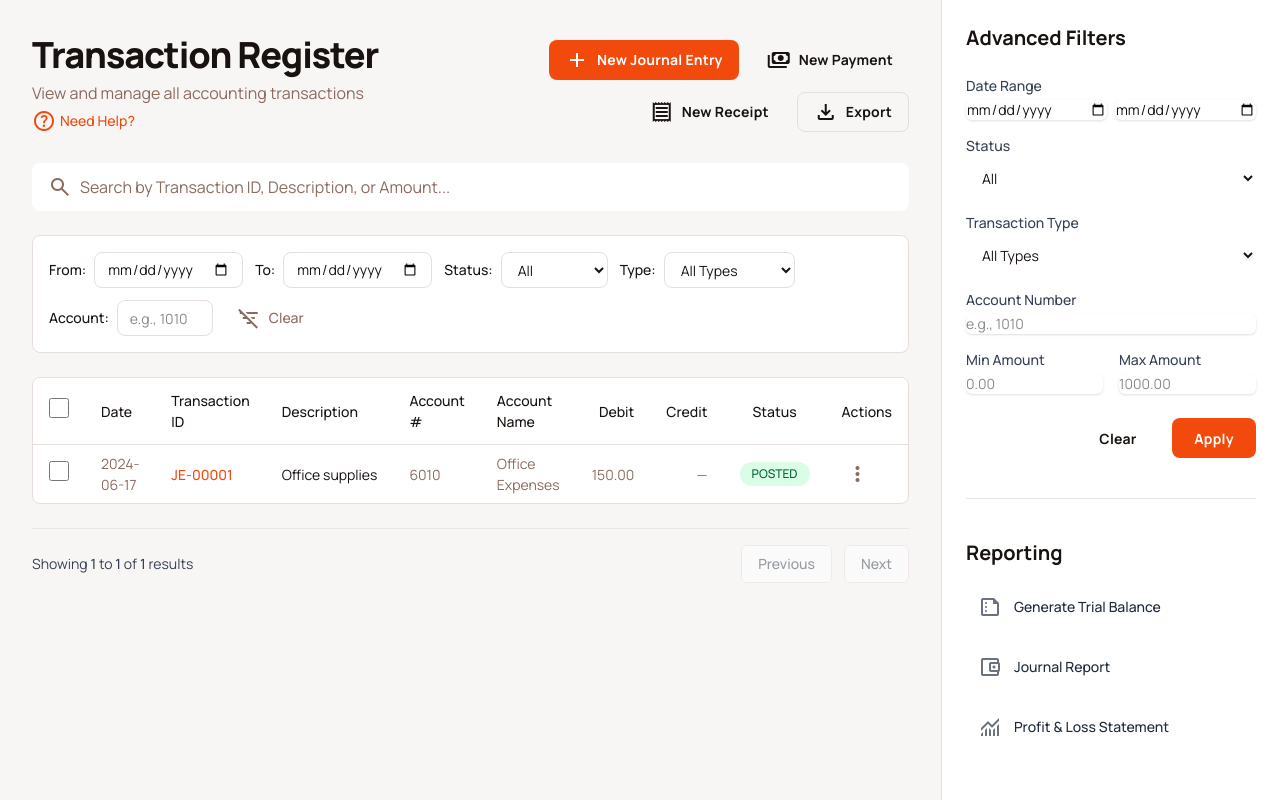
Scenario: TransactionRegisterPage — Export feedback (SOUPFIN-19) › shows a success toast after exporting rows to CSV
Step 1. Click the button with test id "export-button" → (853, 112), box [797,92,909,132]
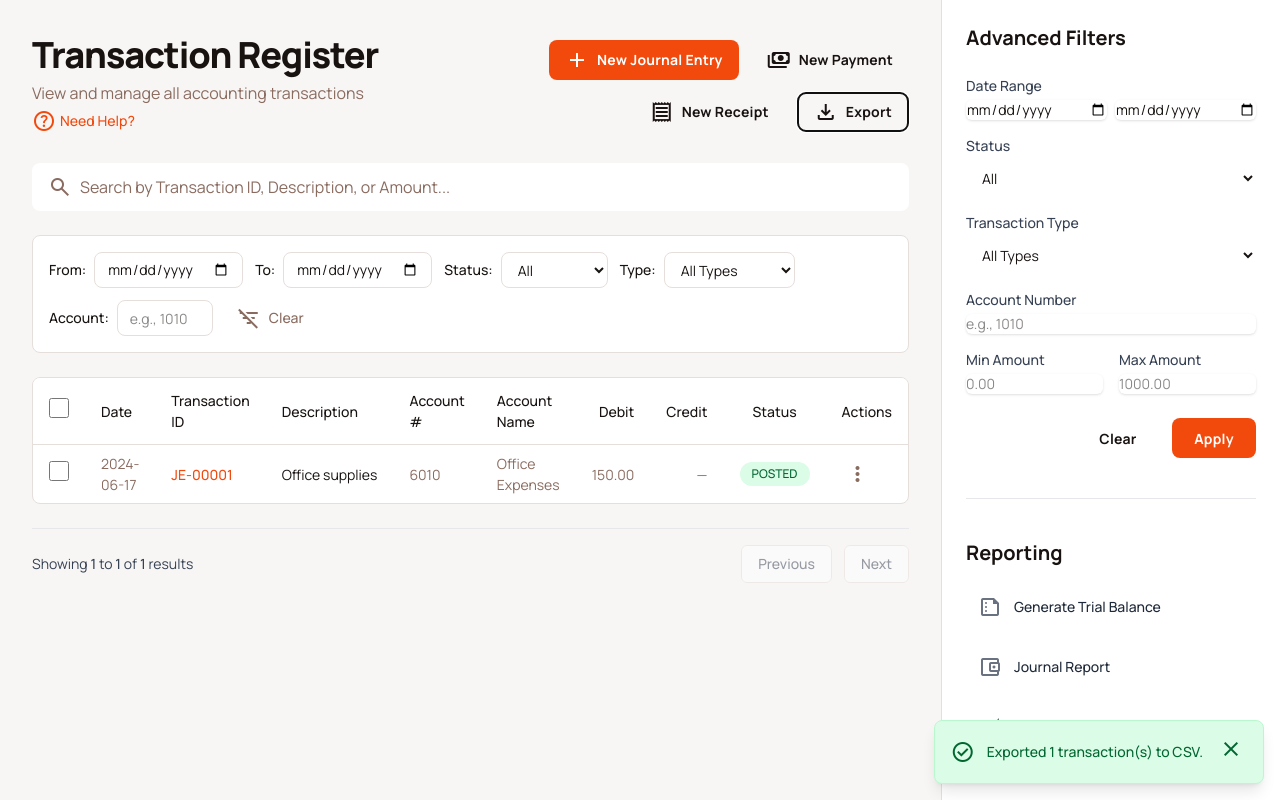
Result: the text "Exported 1 transaction(s) to CSV." is shown at [987,742,1203,762]
